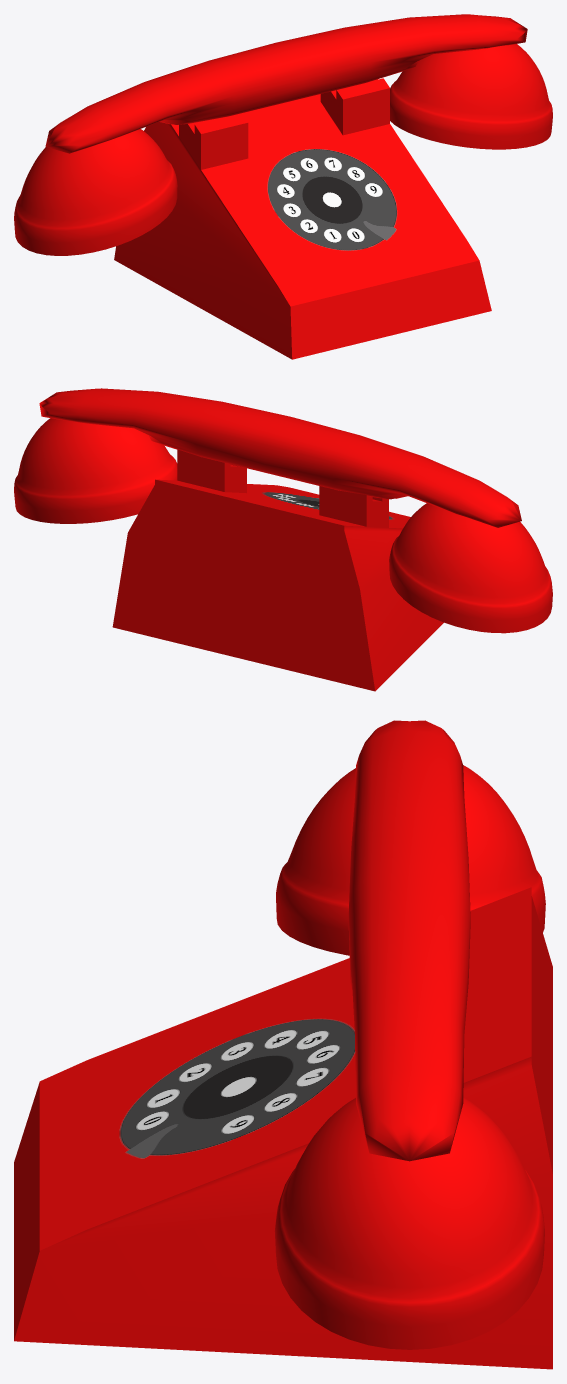
The model's file is Phone_2.fbx.
3 views of the same model, one above another, from view 1: azimuth 30°, elevation 25°; view 2: azimuth 150°, elevation 25°; view 3: azimuth 270°, elevation 25° (orthographic). The views are drawn at different scales.
Parts seen in each view (by area): view 1: front1; view 2: front1; view 3: front1.
Part boxes in pixels (<box>): front1: <box>14,14,552,359</box>; front1: <box>14,388,552,691</box>; front1: <box>14,720,552,1369</box>.
Size of the model in its own units: 180 by 69.3 by 87.65.
Materials: 2 (2 with a texture image).
